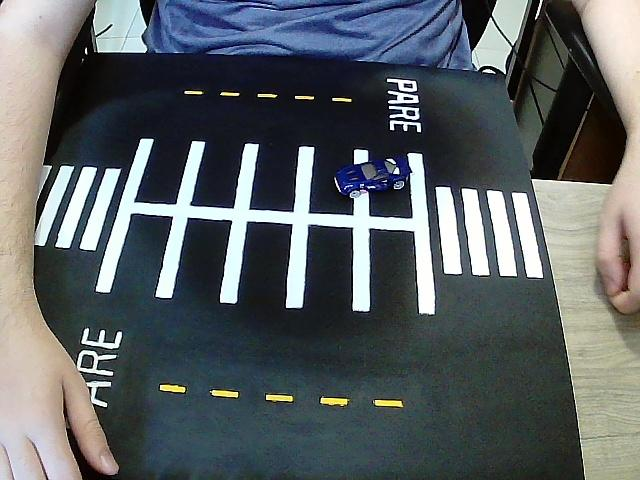Carro: (333, 156, 412, 199)
